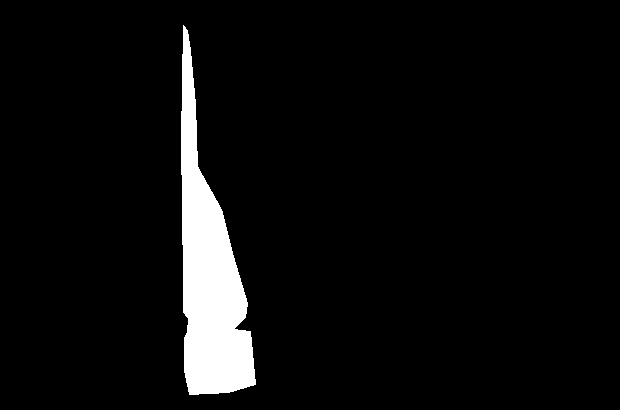type5: (177, 22, 260, 395)
